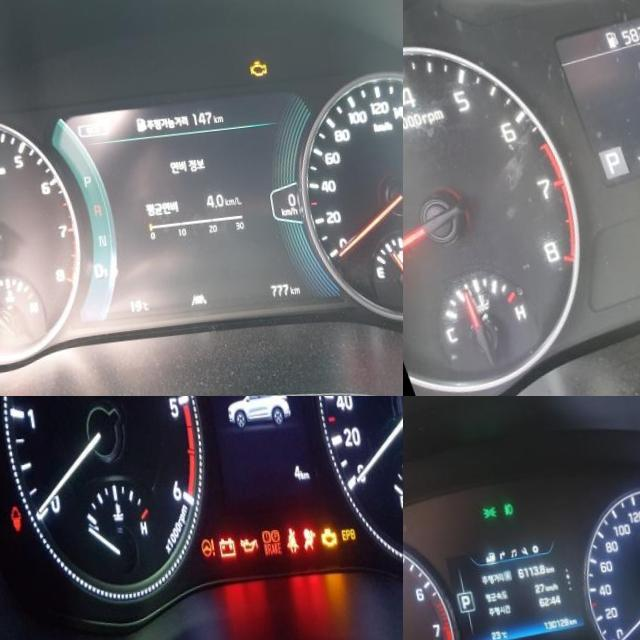FrontFogLight: (493, 509, 504, 524)
SideLamp: (472, 513, 487, 526)
